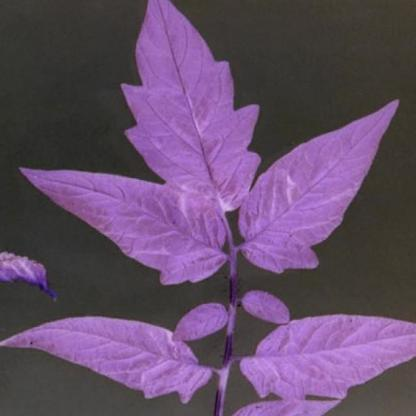Tomato leaf bacterial spot: (118, 1, 258, 214), (240, 93, 402, 266), (21, 166, 230, 282), (3, 309, 222, 397), (238, 310, 409, 400)
